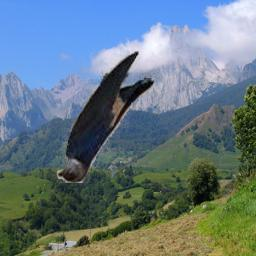Swallow: (57, 44, 187, 183)
